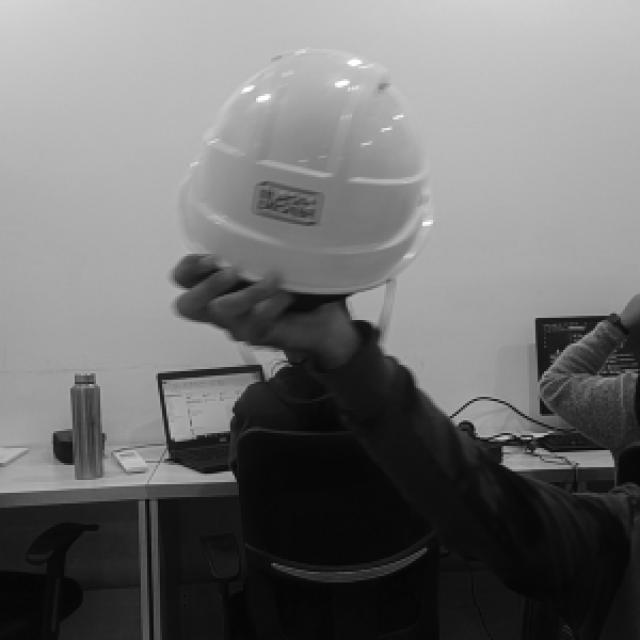safety_helmet: (179, 50, 427, 293)
